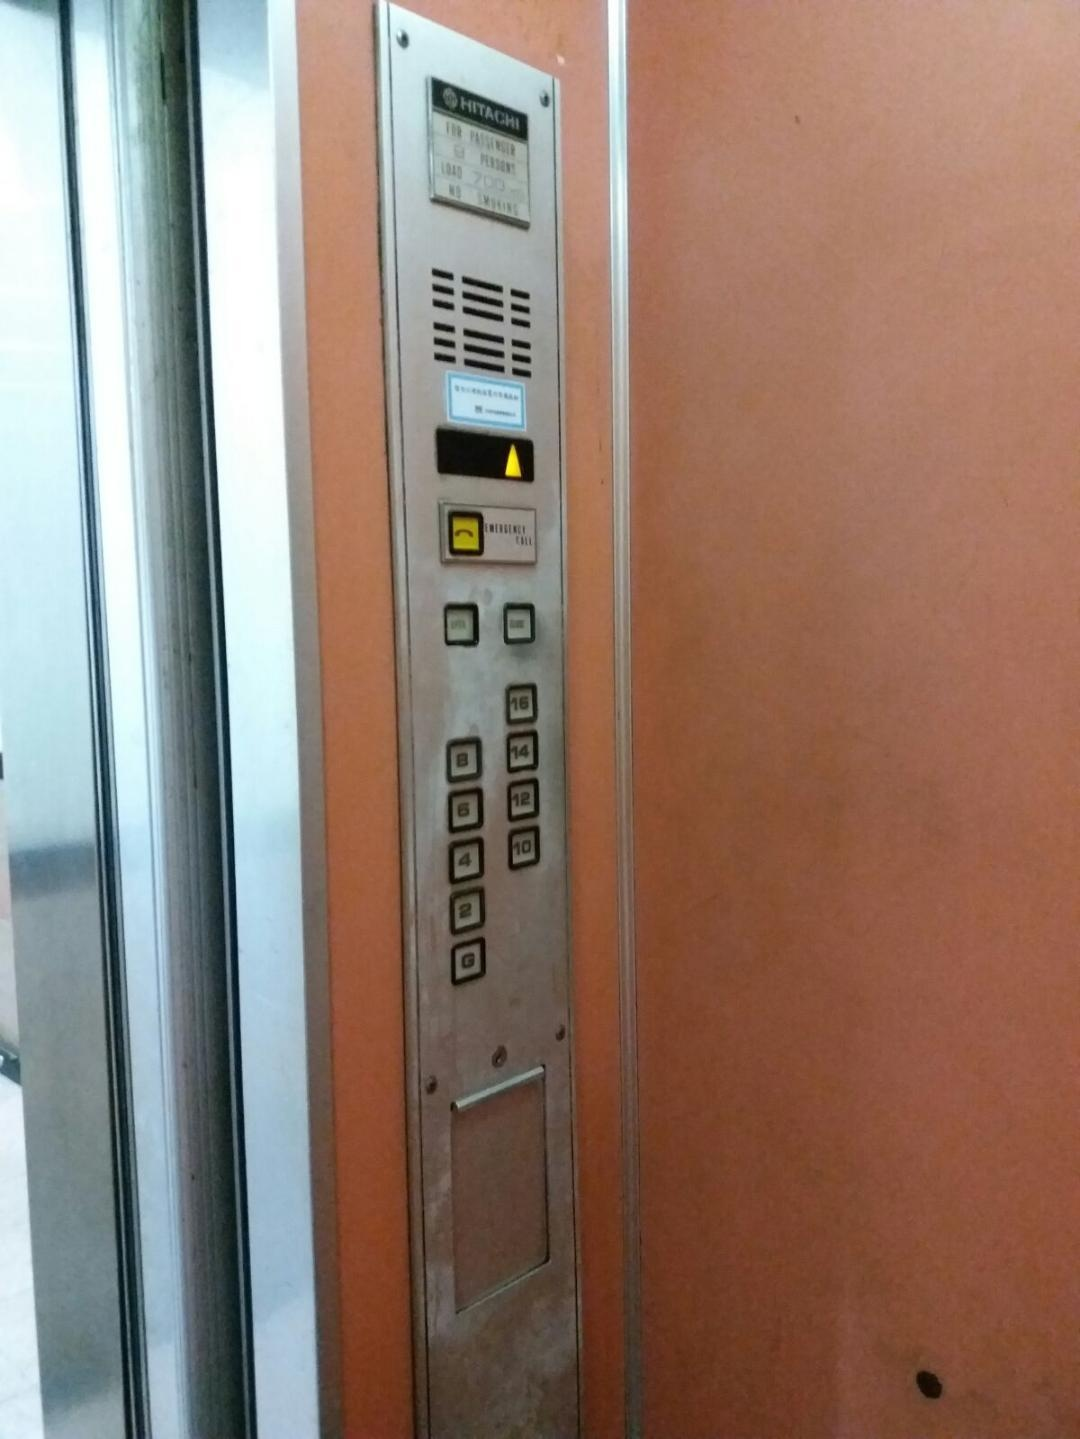10: (507, 823, 541, 871)
12: (504, 776, 545, 823)
14: (499, 729, 542, 777)
16: (501, 680, 540, 728)
2: (447, 884, 488, 936)
4: (445, 833, 488, 884)
6: (446, 785, 486, 838)
8: (444, 736, 483, 782)
G: (448, 936, 493, 987)
blur: (438, 598, 488, 650), (498, 598, 541, 650)
call: (449, 508, 483, 556)
keyhole: (484, 1038, 512, 1072)
led: (432, 426, 538, 486)
